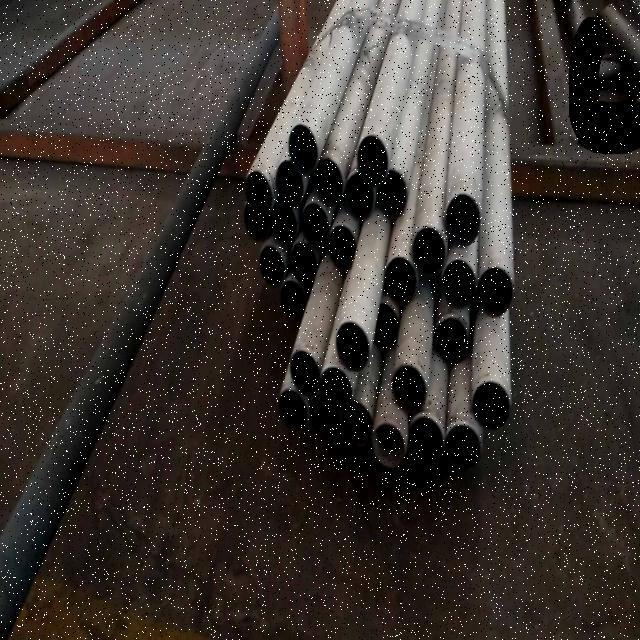pipe: (472, 379, 512, 431), (446, 195, 482, 247), (408, 414, 442, 468), (412, 226, 447, 278), (336, 322, 371, 373), (441, 257, 475, 308), (478, 270, 514, 318), (434, 316, 468, 366), (445, 424, 481, 470), (372, 422, 406, 470), (393, 364, 427, 412), (288, 124, 318, 176), (320, 366, 352, 414), (384, 254, 416, 302), (376, 167, 406, 218), (358, 135, 388, 184), (330, 222, 358, 274), (245, 170, 275, 218), (275, 160, 304, 208), (290, 350, 320, 396), (372, 302, 400, 350), (314, 157, 342, 205), (278, 388, 308, 432), (343, 403, 373, 447), (300, 204, 330, 248), (346, 172, 372, 216), (310, 396, 340, 434), (268, 202, 298, 238), (258, 246, 284, 286), (280, 282, 308, 318), (290, 243, 316, 281), (245, 202, 269, 240)
